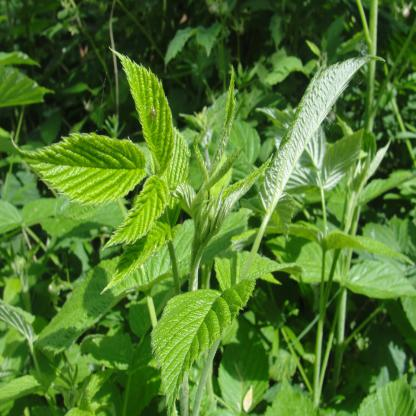raspberry leaf: (148, 271, 263, 416), (1, 128, 144, 204), (107, 43, 180, 182), (98, 222, 175, 292), (105, 173, 173, 249)
